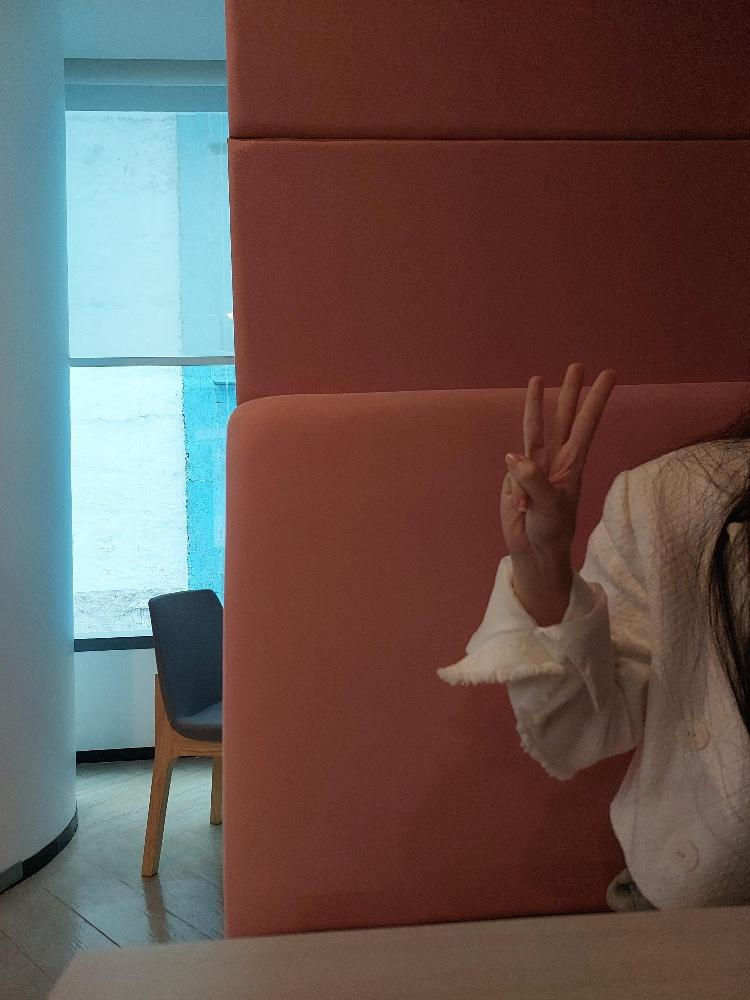w: (497, 359, 616, 555)
